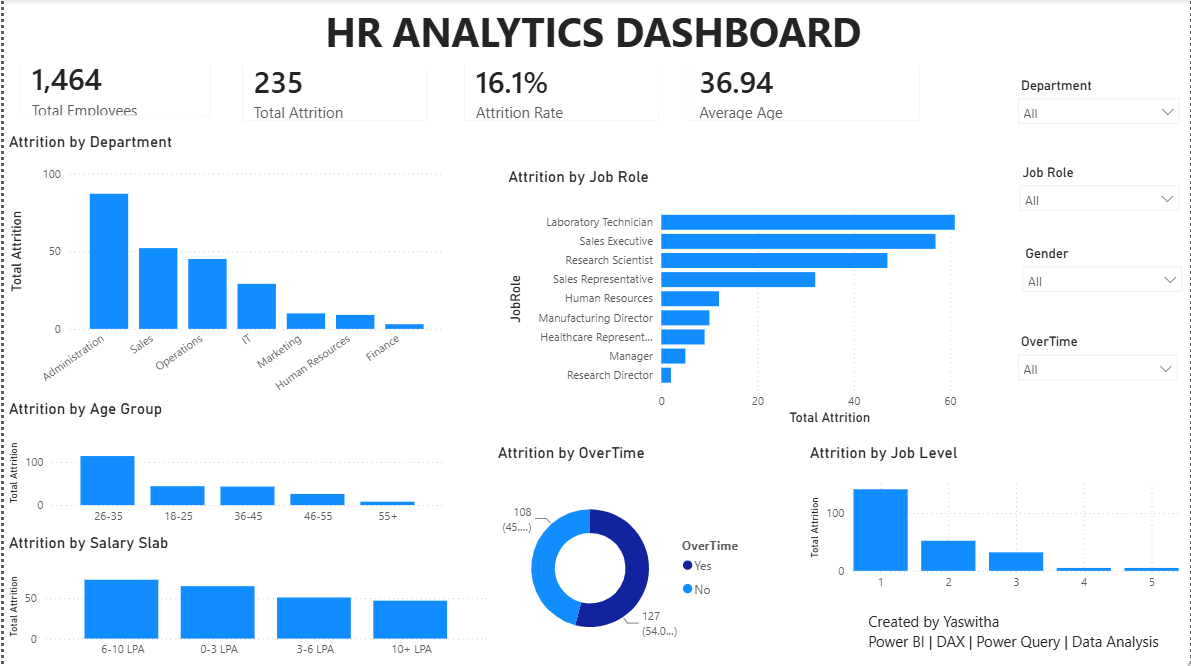

The dashboard page shown, as its layout file describes it:
{"tool":"powerbi","page":{"name":"Page 1","canvas":[1280,720],"ordinal":0},"visuals":[{"type":"cardVisual","fields":{"Data":["HR Data.Total Employees"]},"box":[0,48,240,96],"z":0},{"type":"cardVisual","fields":{"Data":["HR Data.Average Age"]},"box":[720,48,285.6,100.2],"z":1000},{"type":"cardVisual","fields":{"Data":["HR Data.Attrition Rate"]},"box":[480,48,245.1,100.2],"z":2000},{"type":"cardVisual","fields":{"Data":["HR Data.Total Attrition"]},"box":[240,48,234.4,100.2],"z":3000},{"type":"textbox","box":[0,0,1272,72],"z":4000},{"type":"clusteredColumnChart","title":"Attrition by Department","fields":{"Category":["HR Data.Department"],"Y":["HR Data.Total Attrition"]},"box":[0,144,480,312],"z":5000},{"type":"clusteredBarChart","title":"Attrition by Job Role","fields":{"Category":["HR Data.JobRole"],"Y":["HR Data.Total Attrition"]},"box":[539.1,181.1,545.5,283.4],"z":6000},{"type":"clusteredColumnChart","title":"Attrition by Age Group","fields":{"Category":["HR Data.AgeGroup"],"Y":["HR Data.Total Attrition"]},"box":[0,432,480,144],"z":6001},{"type":"clusteredColumnChart","title":"Attrition by Salary Slab","fields":{"Category":["HR Data.SalarySlab"],"Y":["HR Data.Total Attrition"]},"box":[0,576,528,144],"z":6002},{"type":"donutChart","title":"Attrition by OverTime","fields":{"Category":["HR Data.OverTime"],"Y":["HR Data.Total Attrition"]},"box":[528,480,288,240],"z":6003},{"type":"clusteredColumnChart","title":"Attrition by Job Level","fields":{"Category":["HR Data.JobLevel"],"Y":["HR Data.Total Attrition"]},"box":[864,480,408,168],"z":6004},{"type":"slicer","fields":{"Values":["HR Data.Department"]},"box":[1084.7,78.8,193.9,78.8],"z":6005},{"type":"slicer","fields":{"Values":["HR Data.OverTime"]},"box":[1084.7,355.9,191.8,78.8],"z":6006},{"type":"slicer","fields":{"Values":["HR Data.Gender"]},"box":[1088.9,260,191.8,78.8],"z":6007},{"type":"slicer","fields":{"Values":["HR Data.JobRole"]},"box":[1086.8,172.6,191.8,78.8],"z":6008},{"type":"textbox","box":[928,656,352,64],"z":6009}]}

Visuals, with their boxes in screenshot pixels (x1, y1, x2, y2), scaled from the page's 1280x720 canvas onto the 1191x666 screenshot:
cardVisual - HR Data.Total Employees: BBox(0, 44, 223, 133)
cardVisual - HR Data.Average Age: BBox(670, 44, 936, 137)
cardVisual - HR Data.Attrition Rate: BBox(447, 44, 675, 137)
cardVisual - HR Data.Total Attrition: BBox(223, 44, 441, 137)
textbox: BBox(0, 0, 1184, 67)
"Attrition by Department" clusteredColumnChart: BBox(0, 133, 447, 422)
"Attrition by Job Role" clusteredBarChart: BBox(502, 168, 1009, 430)
"Attrition by Age Group" clusteredColumnChart: BBox(0, 400, 447, 533)
"Attrition by Salary Slab" clusteredColumnChart: BBox(0, 533, 491, 665)
"Attrition by OverTime" donutChart: BBox(491, 444, 759, 665)
"Attrition by Job Level" clusteredColumnChart: BBox(804, 444, 1184, 599)
slicer - HR Data.Department: BBox(1009, 73, 1190, 146)
slicer - HR Data.OverTime: BBox(1009, 329, 1188, 402)
slicer - HR Data.Gender: BBox(1013, 240, 1190, 313)
slicer - HR Data.JobRole: BBox(1011, 160, 1190, 233)
textbox: BBox(863, 607, 1190, 665)
